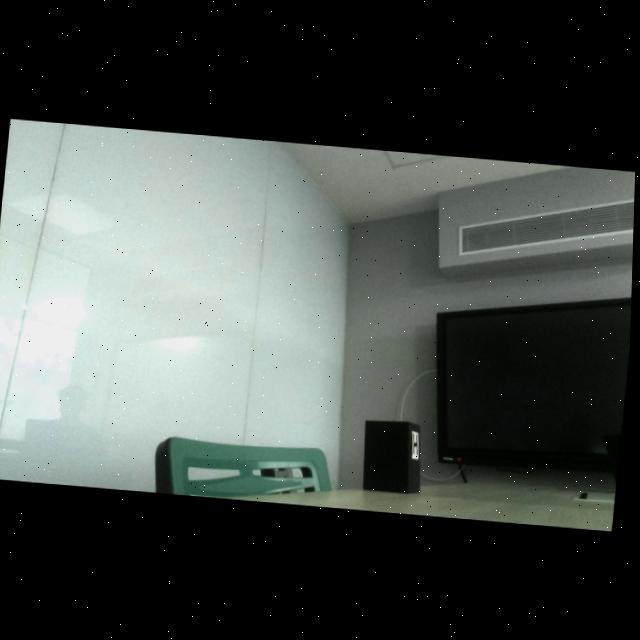H: (416, 432, 420, 454)
